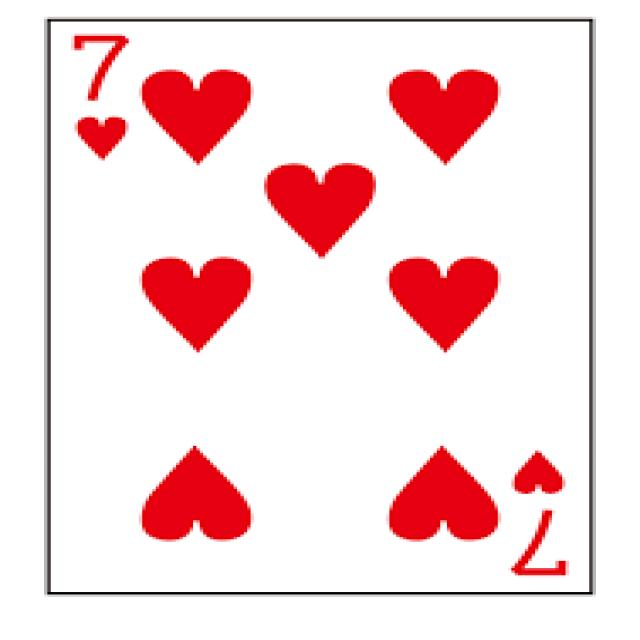H7: (44, 16, 592, 601)
